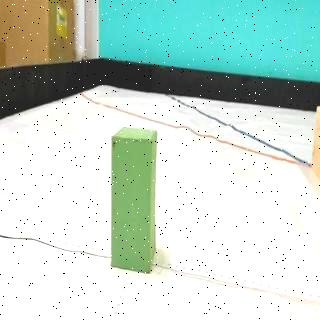greenbox: (110, 125, 156, 272)
